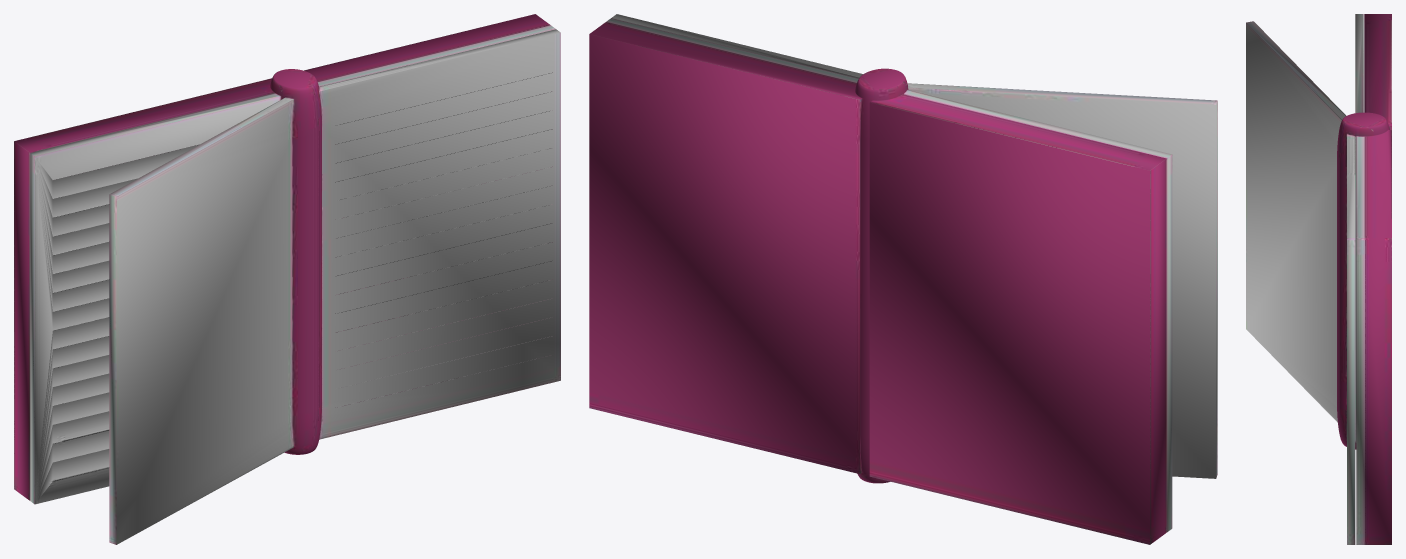
3 views of the same model, side by side, from view 1: azimuth 30°, elevation 25°; view 2: azimuth 150°, elevation 25°; view 3: azimuth 270°, elevation 25° (orthographic). The views are drawn at different scales.
Size of the model in its own units: 0.2974 by 0.2 by 0.0817.
Materials: 1 (1 with a texture image).
